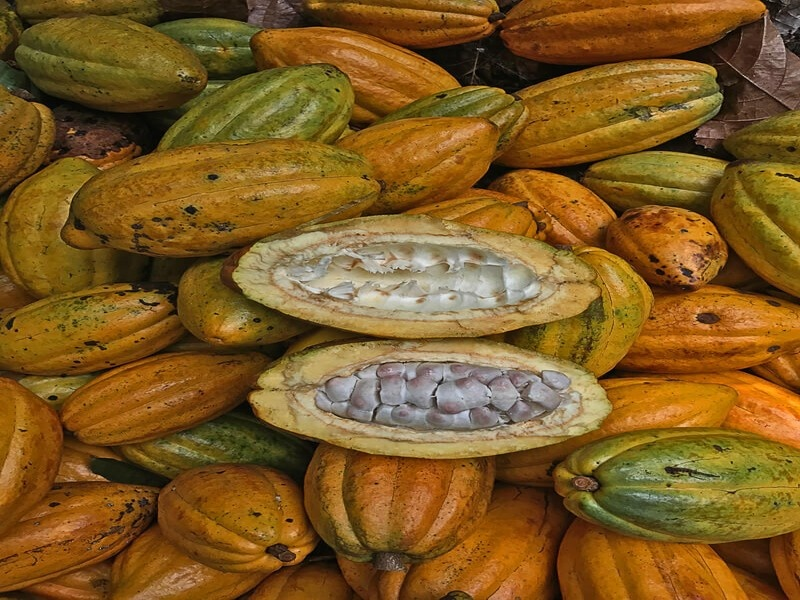Cacaopod: (56, 143, 391, 250), (554, 428, 800, 543), (300, 435, 510, 563), (57, 343, 285, 446), (168, 54, 361, 174), (494, 64, 733, 160), (159, 460, 329, 573), (17, 23, 205, 118), (5, 284, 184, 376), (481, 165, 617, 252)
